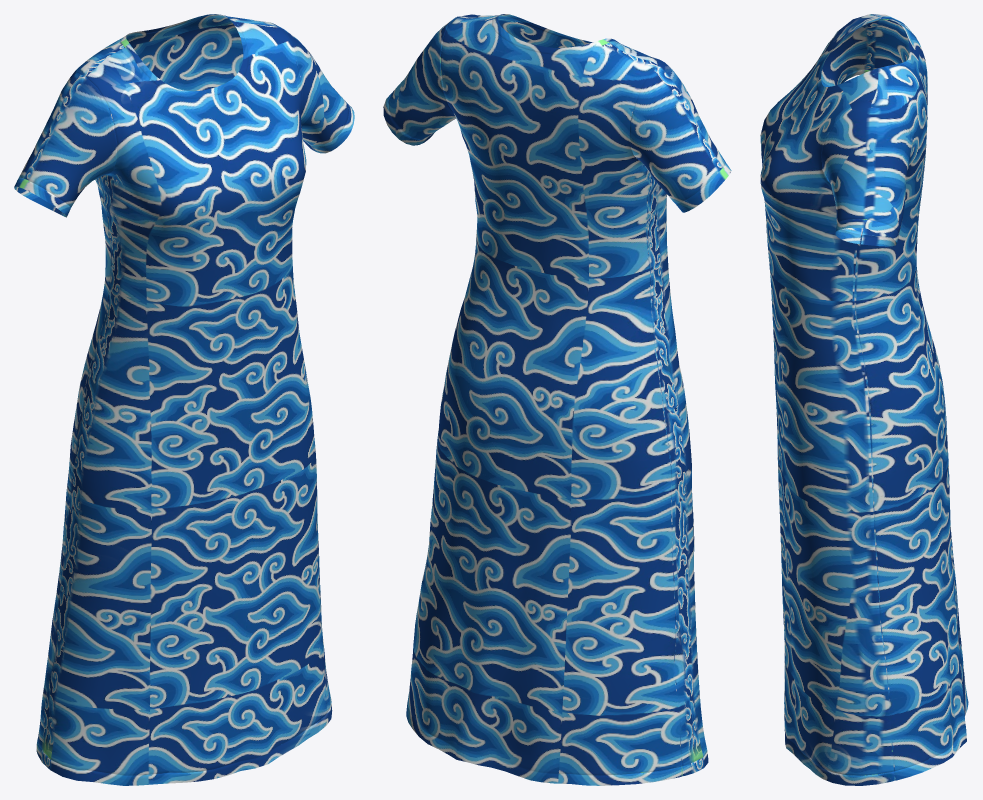
3 views of the same model, side by side, from view 1: azimuth 30°, elevation 25°; view 2: azimuth 150°, elevation 25°; view 3: azimuth 270°, elevation 25° (orthographic). The views are drawn at different scales.
Visible parts, largest first — view 1: HG_Dress.001_0; view 2: HG_Dress.001_0; view 3: HG_Dress.001_0.
Part boxes in pixels (box(x1,y1,x2,y2)): HG_Dress.001_0: box(14, 14, 354, 785); HG_Dress.001_0: box(383, 14, 731, 785); HG_Dress.001_0: box(760, 14, 968, 785).
Bounding box in the file's own units: 0.5989 × 1.23 × 0.3376.
Materials: 1 (1 with a texture image).
